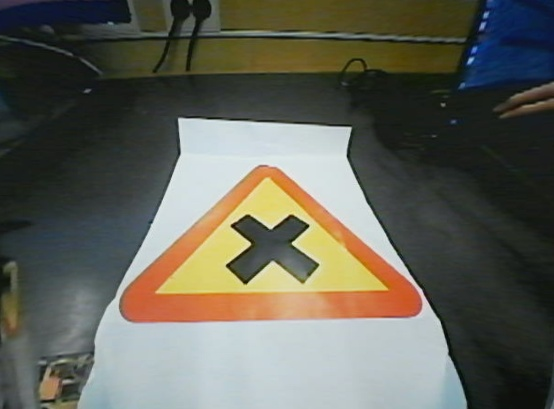junction: (105, 154, 420, 325)
